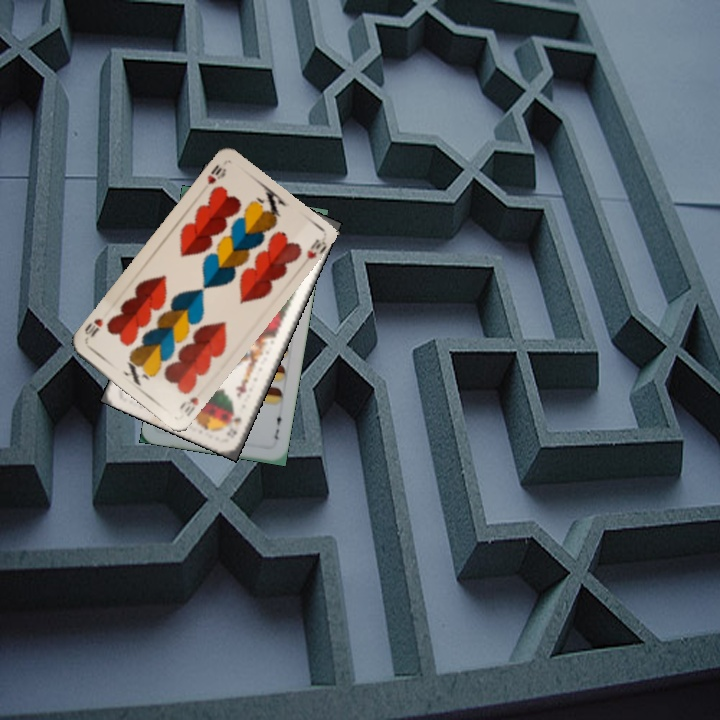E7: (270, 408, 285, 442)
H10: (175, 393, 201, 419), (203, 161, 229, 187)
SK: (222, 413, 245, 441)
